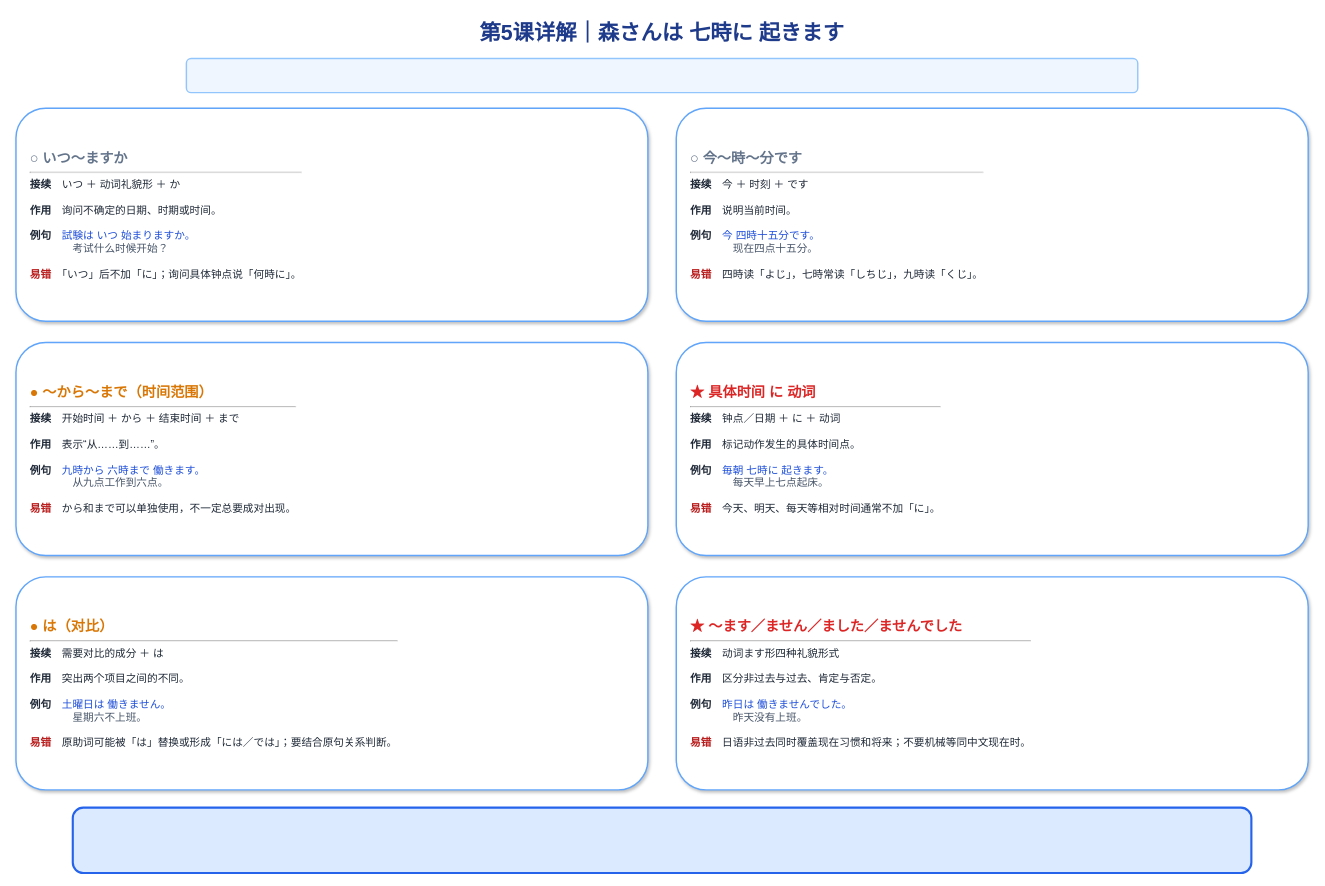
Image size: 1325x886. Some labels were removed from this diagram. The centre of each missing label's shape, as x and y in pixels:
本课目标：掌握动词礼貌形的现在、过去、肯定、否定以及时间表达。: pixel 661 75
本课结构关系 ます／ません表达非过去，ました／ませんでした表达过去；具体时刻通常加「に」。 最低掌握标准 能根据时间词在四个礼貌形中立即选择正确形式。: pixel 661 840
